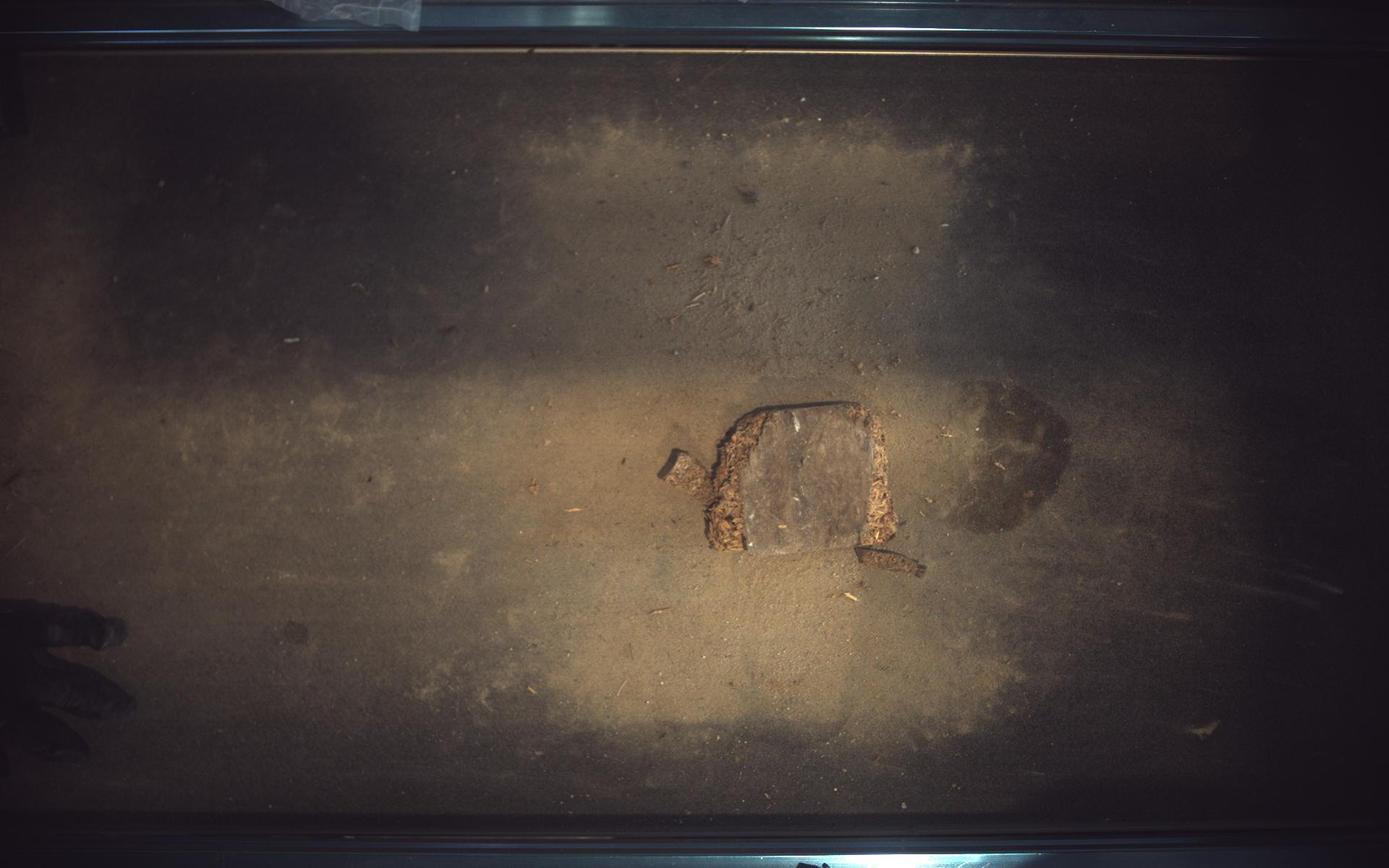wood: (659, 402, 927, 577)
